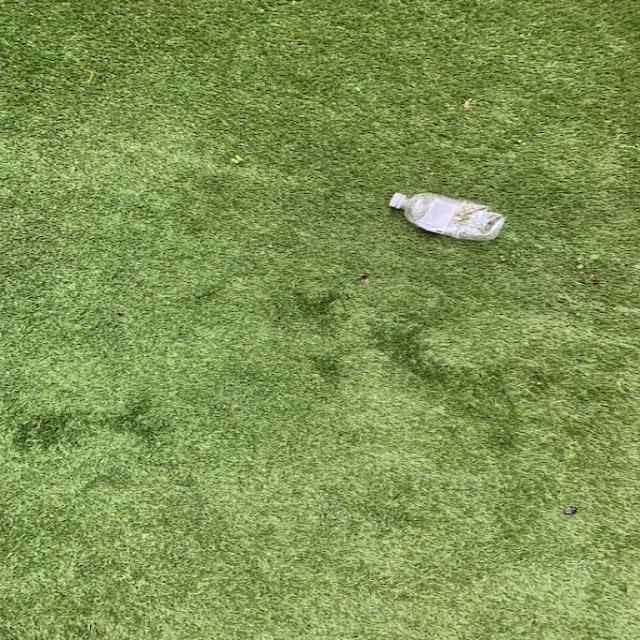litter: (385, 189, 514, 245)
